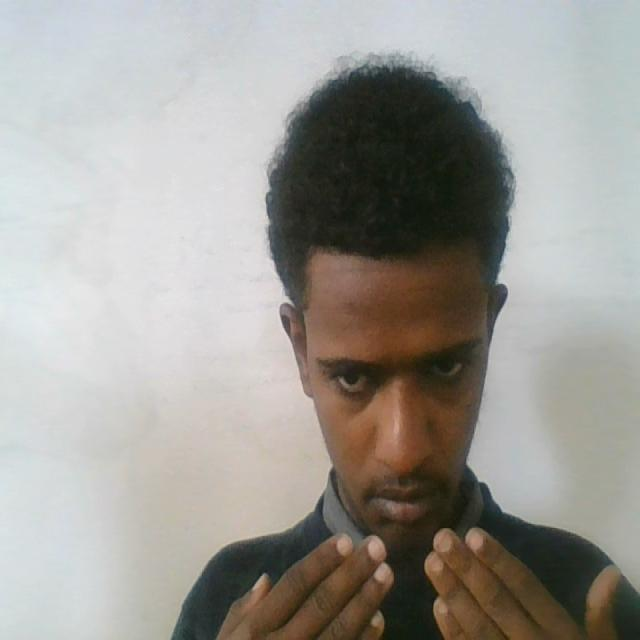thanks: (184, 496, 640, 640)
